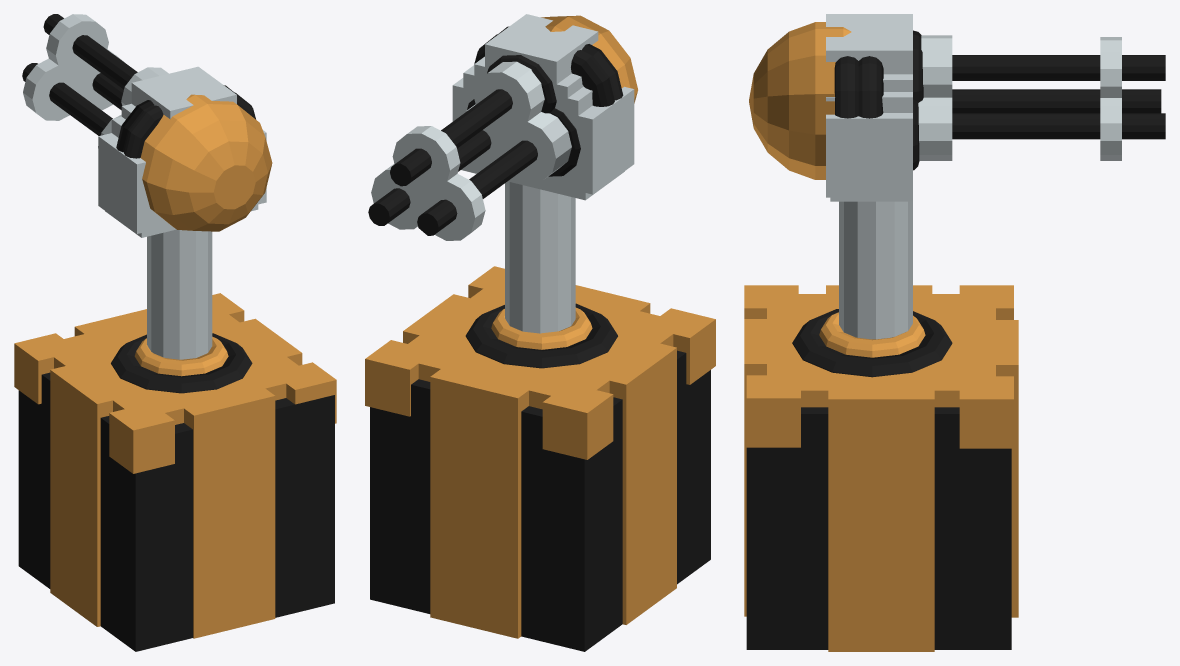
The model's file is gun-turret-minigun-by-thardoc-nolastname-0Ni0ewkNhgU.glb.
3 views of the same model, side by side, from view 1: azimuth 30°, elevation 25°; view 2: azimuth 150°, elevation 25°; view 3: azimuth 270°, elevation 25° (orthographic). The views are drawn at different scales.
Parts seen in each view (by area): view 1: Node; view 2: Node; view 3: Node.
Part boxes in pixels (box(x1,y1,x2,y2)): Node: box(14, 14, 336, 651); Node: box(365, 14, 715, 651); Node: box(744, 14, 1165, 651).
Bounding box in the file's own units: 0.6192 × 1.44 × 0.9675.
